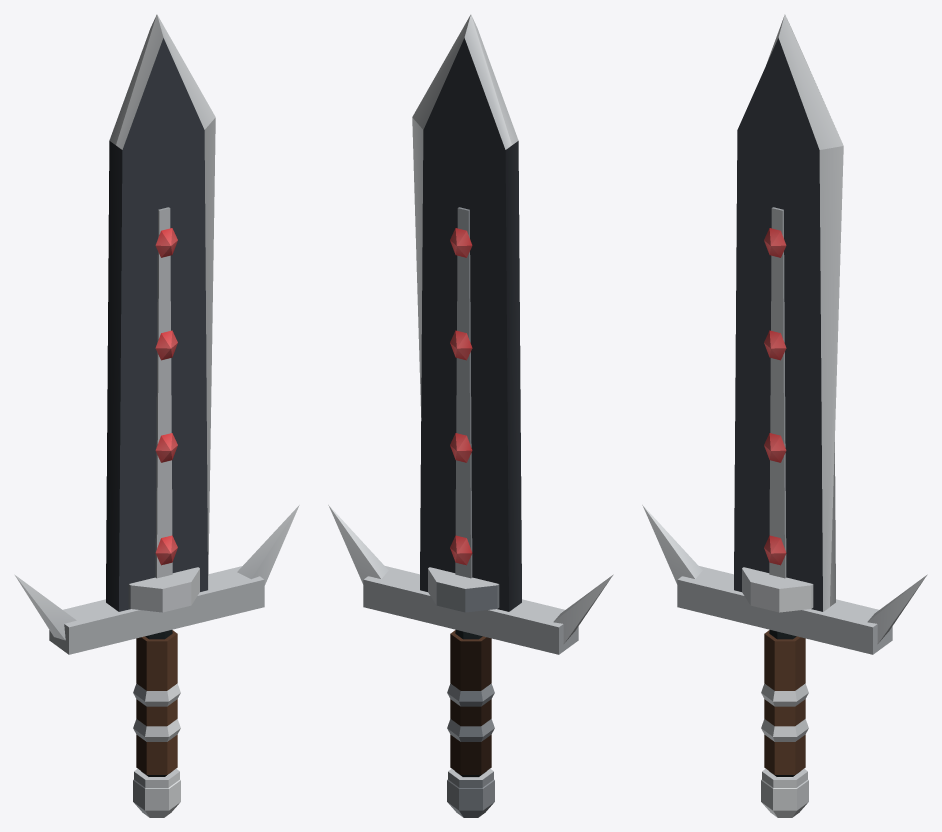
The model's file is knight_runeblade_2.gltf.
The picture shows the model from 3 angles, left to right: view 1: azimuth 30°, elevation 25°; view 2: azimuth 150°, elevation 25°; view 3: azimuth 330°, elevation 25°; orthographic projection.
Visible parts, largest first — view 1: knight_runeblade_2; view 2: knight_runeblade_2; view 3: knight_runeblade_2.
Boxes of the visible parts, bbox=[...] form: knight_runeblade_2: bbox=[14, 14, 299, 817]; knight_runeblade_2: bbox=[328, 14, 613, 817]; knight_runeblade_2: bbox=[642, 14, 927, 817].
Bounding box in the file's own units: 0.76 × 2.03 × 0.1848.
Materials: 1 (1 with a texture image).
